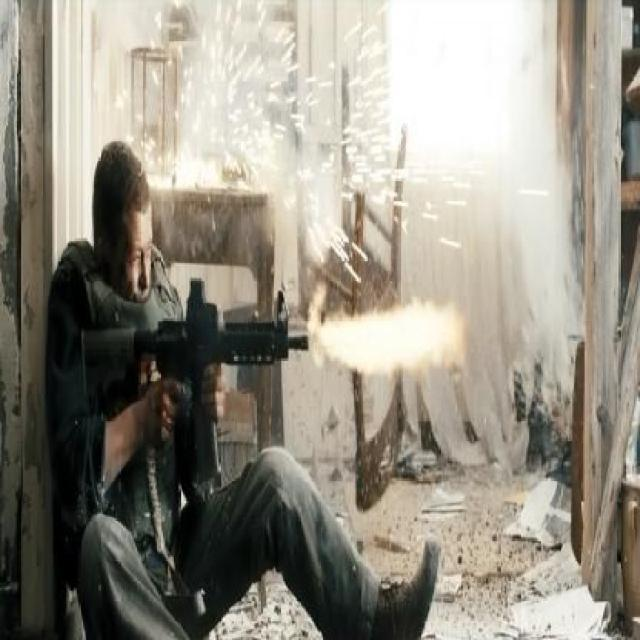gun: (78, 282, 326, 395)
